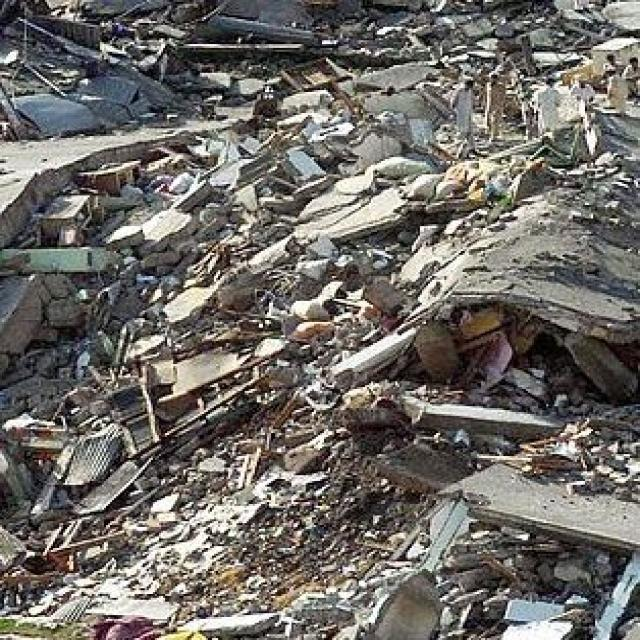collapsed_building: (0, 113, 616, 496)
